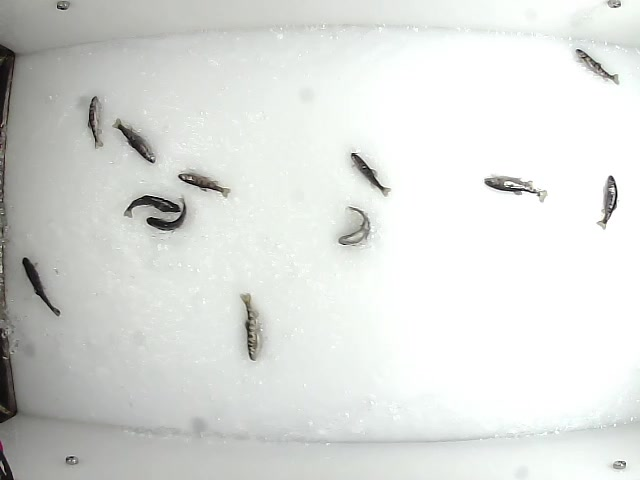fish: (20, 254, 61, 318), (110, 118, 157, 164), (481, 173, 550, 204), (571, 46, 622, 87), (350, 150, 393, 198), (238, 291, 263, 361), (144, 194, 187, 232), (336, 205, 373, 247), (121, 196, 181, 221), (177, 171, 231, 198), (594, 173, 618, 230)
